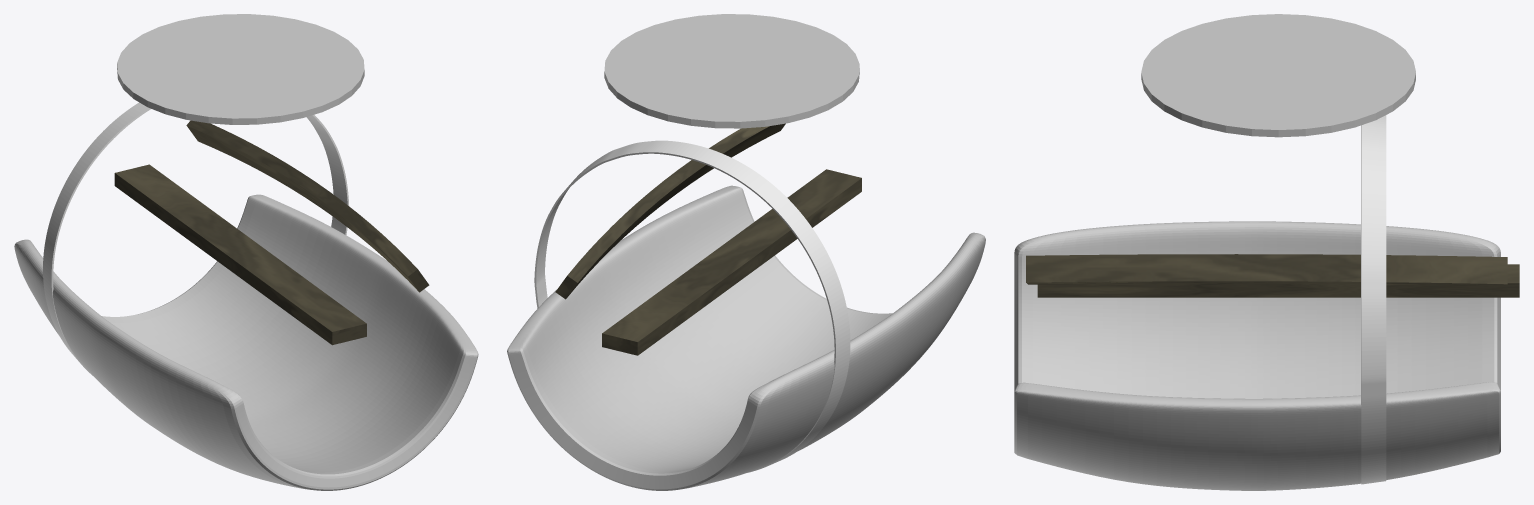
File: barrelBroken1.fbx
3 views of the same model, side by side, from view 1: azimuth 30°, elevation 25°; view 2: azimuth 150°, elevation 25°; view 3: azimuth 270°, elevation 25° (orthographic). The views are drawn at different scales.
Parts seen in each view (by area): view 1: Cylinder, UpperLid, Plank, BentPlank, Ring; view 2: Cylinder, UpperLid, Plank, Ring, BentPlank; view 3: Cylinder, UpperLid, BentPlank, Ring, Plank.
Boxes of the visible parts, box(x1,y1,x2,y2) form: Cylinder: box(14, 194, 478, 490); UpperLid: box(117, 14, 364, 124); Plank: box(114, 164, 366, 345); BentPlank: box(186, 120, 429, 292); Ring: box(43, 102, 348, 375); Cylinder: box(507, 185, 985, 490); UpperLid: box(604, 14, 859, 128); Plank: box(602, 169, 861, 355); Ring: box(534, 140, 850, 472); BentPlank: box(555, 123, 785, 299); Cylinder: box(1014, 221, 1500, 490); UpperLid: box(1141, 14, 1415, 137); BentPlank: box(1026, 254, 1507, 285); Ring: box(1361, 115, 1386, 484); Plank: box(1037, 264, 1519, 297).
Size of the model in its own units: 196 by 224 by 255.
